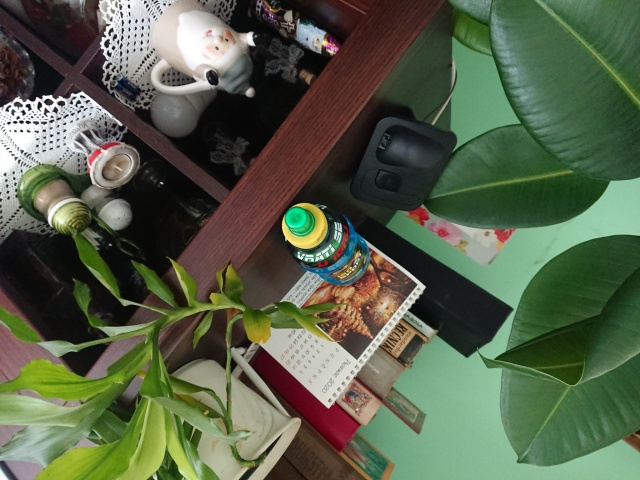Vindi Iso Sport Forest Strawberries 500mL: (279, 199, 373, 287)
